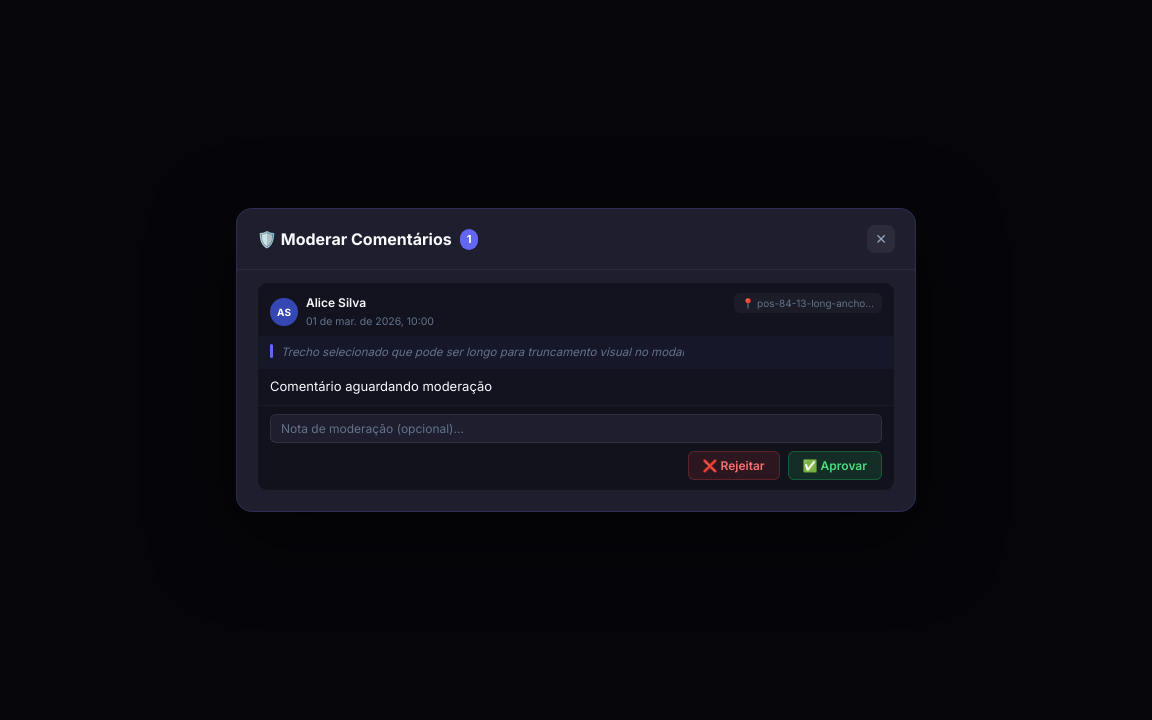
Test: AdminCommentModal moderation flows › renders pending comments with fallback avatars and approves them with moderation notes
The image size is (1152, 720).
Expected: the text "Comentário aguardando moderação" is shown, [270,378,492,394]
Expected: the text "AS" is shown, [270,298,298,326]
Type "Conferido com a referência oficial" into the field with placeholder "Nota de moderação (opcional)…" at (576, 428), box [270,414,882,443]
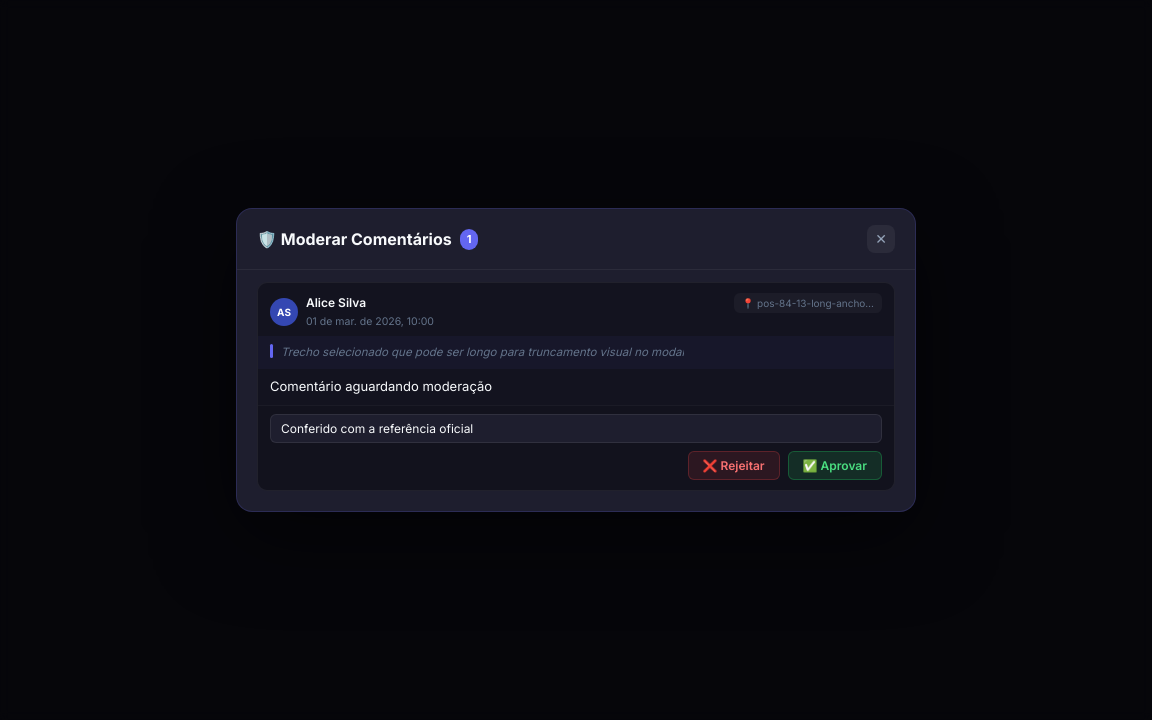
Click the button "✅ Aprovar" at (835, 465), box [788,451,882,480]
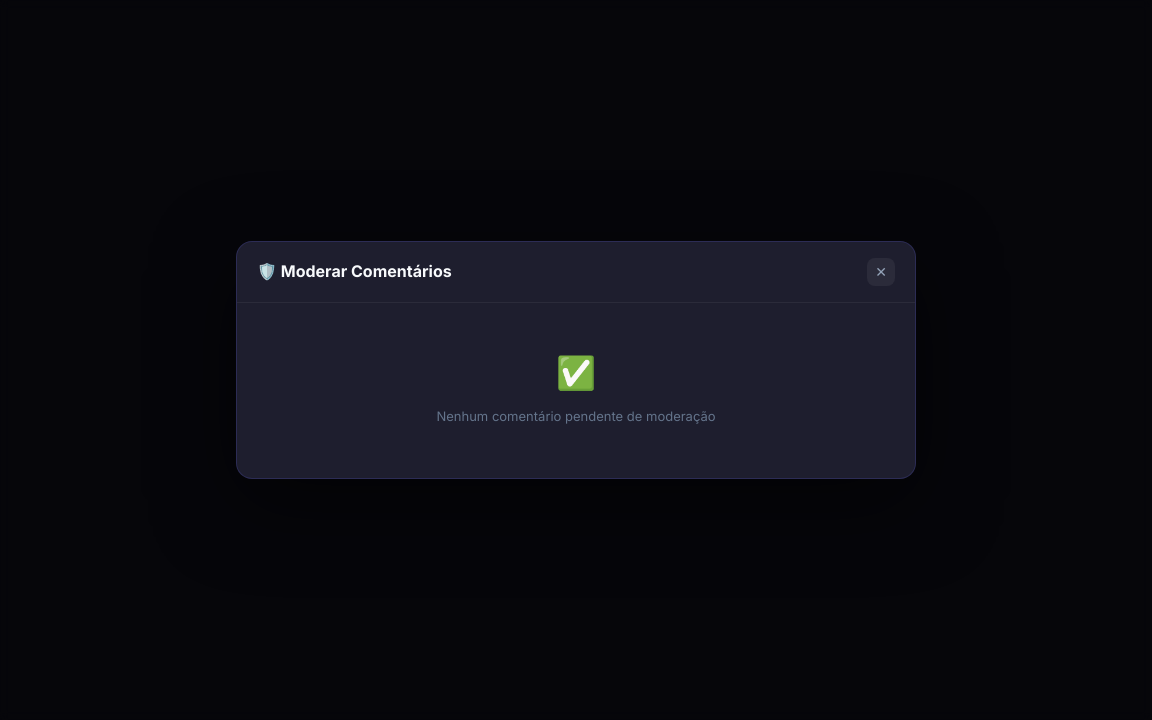
Result: the text "Comentário aguardando moderação" is gone
